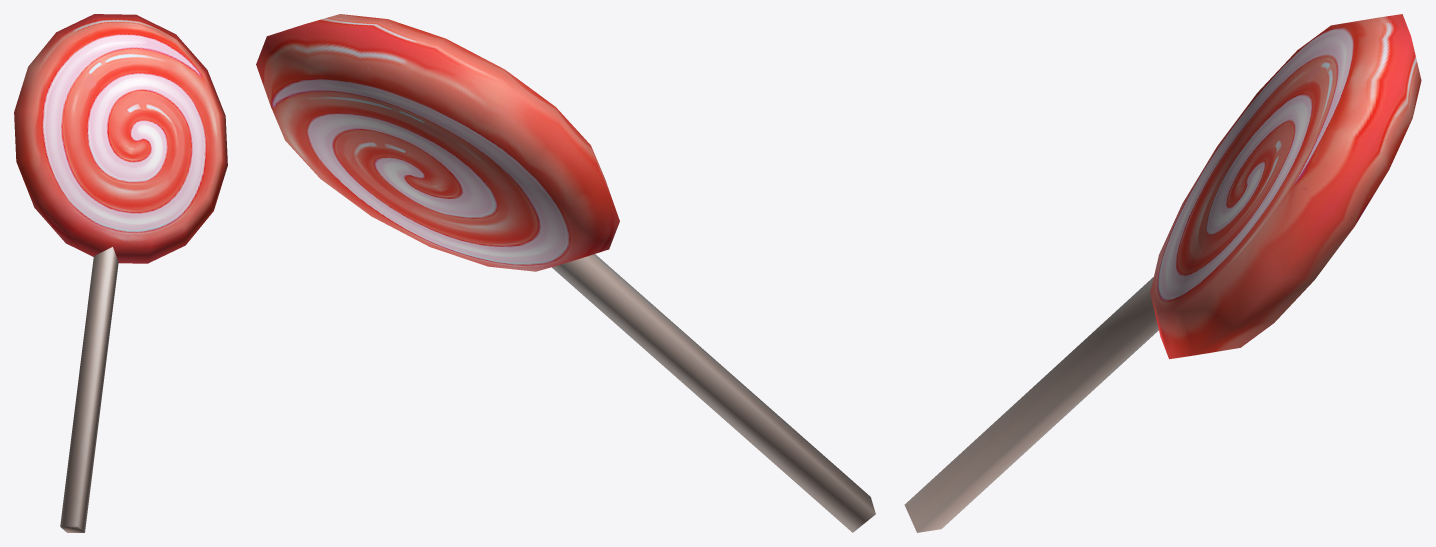
Rendered from Headwear_2600085.fbx.
3 renders of one model, left to right at view 1: azimuth 30°, elevation 25°; view 2: azimuth 150°, elevation 25°; view 3: azimuth 270°, elevation 25°, orthographic. The views are drawn at different scales.
Visible parts, largest first — view 1: Headwear_2600085; view 2: Headwear_2600085; view 3: Headwear_2600085.
Part boxes in pixels (<box>): Headwear_2600085: <box>14,14,227,532</box>; Headwear_2600085: <box>256,14,875,532</box>; Headwear_2600085: <box>904,14,1421,532</box>.
Bounding box in the file's own units: 14.38 × 19.04 × 14.17.
Materials: 1 (1 with a texture image).
